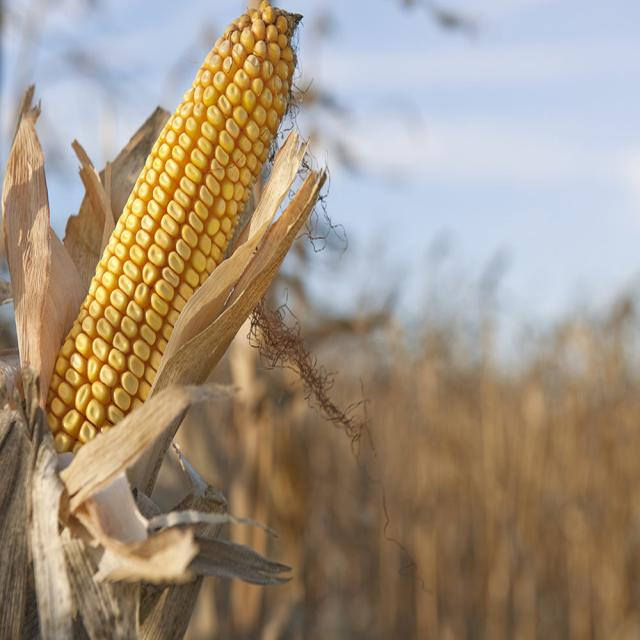corn: (20, 4, 322, 476)
